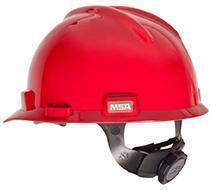helmet: (2, 1, 210, 127)
